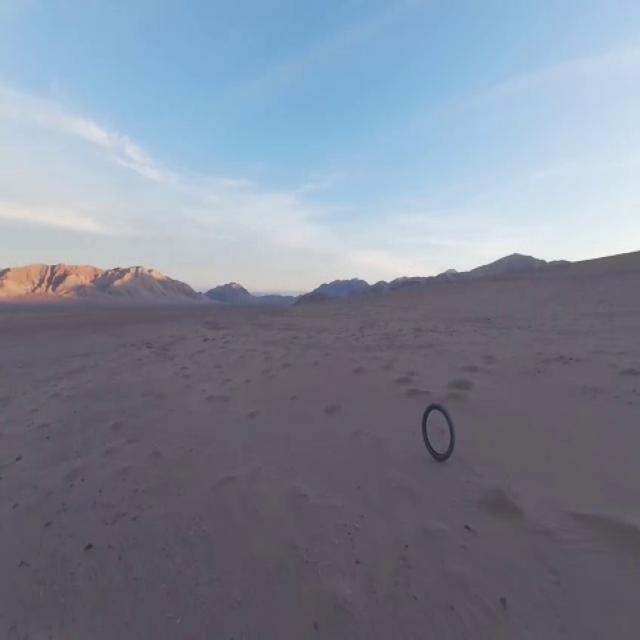Tire: (423, 403, 454, 461)
